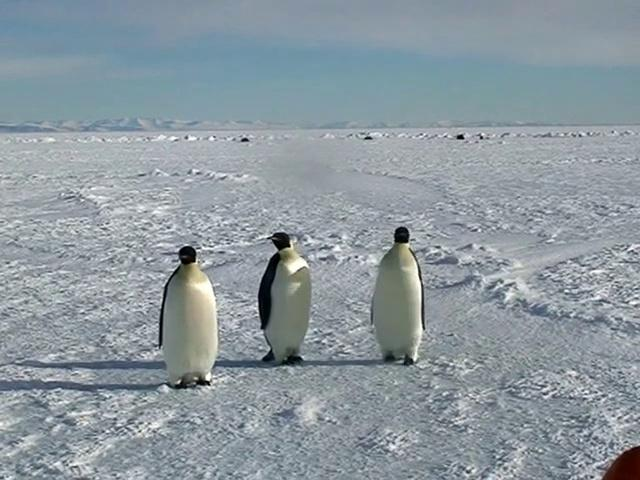animal: (372, 227, 426, 366)
